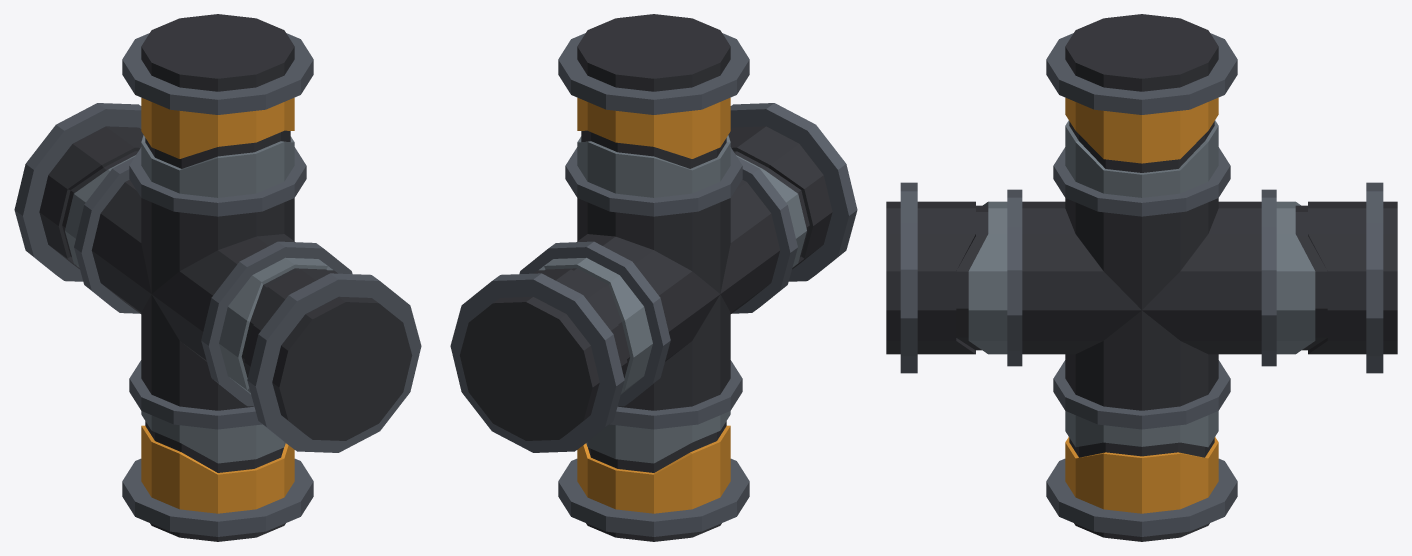
Rendered from SM_X-shaped_water_pipe.glb.
The picture shows the model from 3 angles, left to right: view 1: azimuth 30°, elevation 25°; view 2: azimuth 150°, elevation 25°; view 3: azimuth 270°, elevation 25°; orthographic projection.
Parts seen in each view (by area): view 1: SM_X-shaped_water_pipe; view 2: SM_X-shaped_water_pipe; view 3: SM_X-shaped_water_pipe.
Part boxes in pixels (x1,y1,x2,y2): SM_X-shaped_water_pipe: [14, 14, 421, 541]; SM_X-shaped_water_pipe: [450, 14, 857, 541]; SM_X-shaped_water_pipe: [886, 14, 1397, 541].
Bounding box in the file's own units: 0.7487 × 2 × 2.
Materials: 1 (1 with a texture image).
